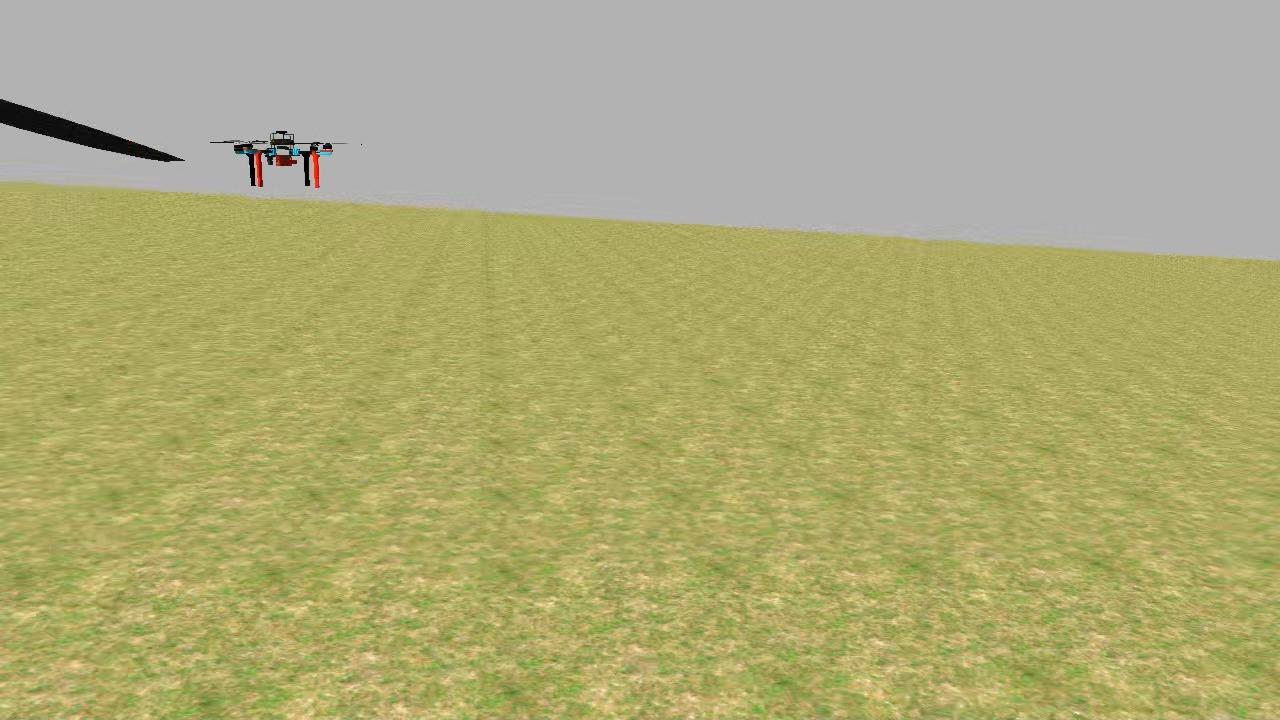UAV: (224, 128, 336, 194)
